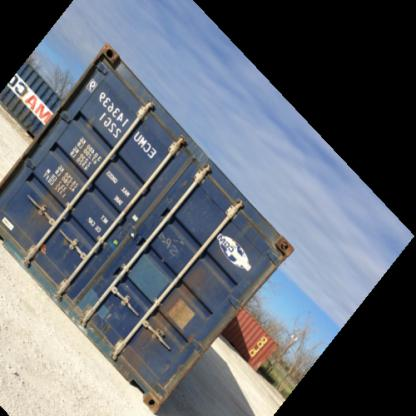Damage: (84, 286, 131, 341), (31, 182, 57, 226), (57, 232, 85, 262), (267, 232, 292, 258), (100, 44, 122, 70)
